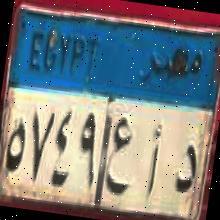4: (47, 103, 79, 196)
5: (0, 116, 30, 184)
7: (22, 100, 58, 190)
9: (74, 105, 104, 192)
ain: (101, 106, 140, 204)
alif: (141, 120, 167, 205)
daal: (169, 134, 201, 202)
